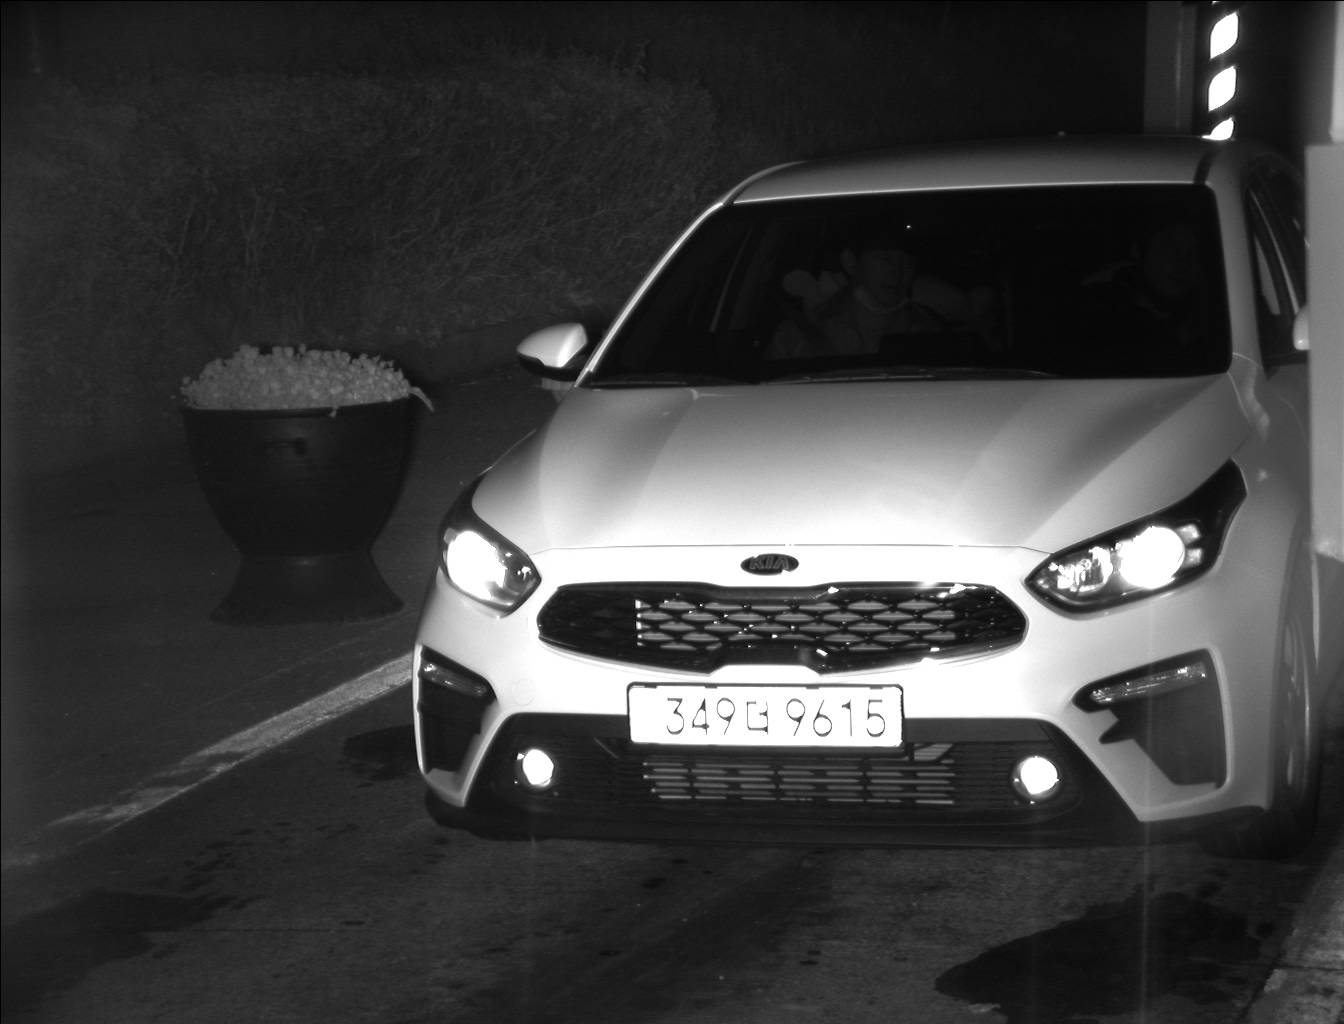car: (409, 132, 1334, 864)
plate: (624, 679, 906, 752)
